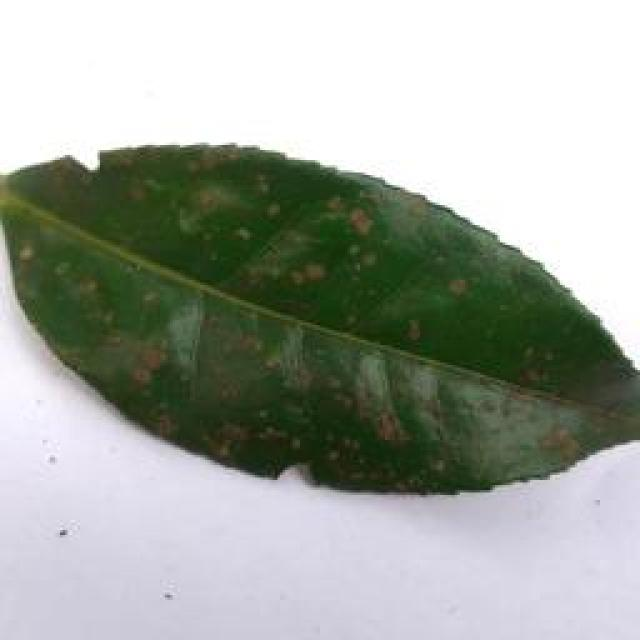Algal Leaf Spot: (0, 132, 640, 512)
